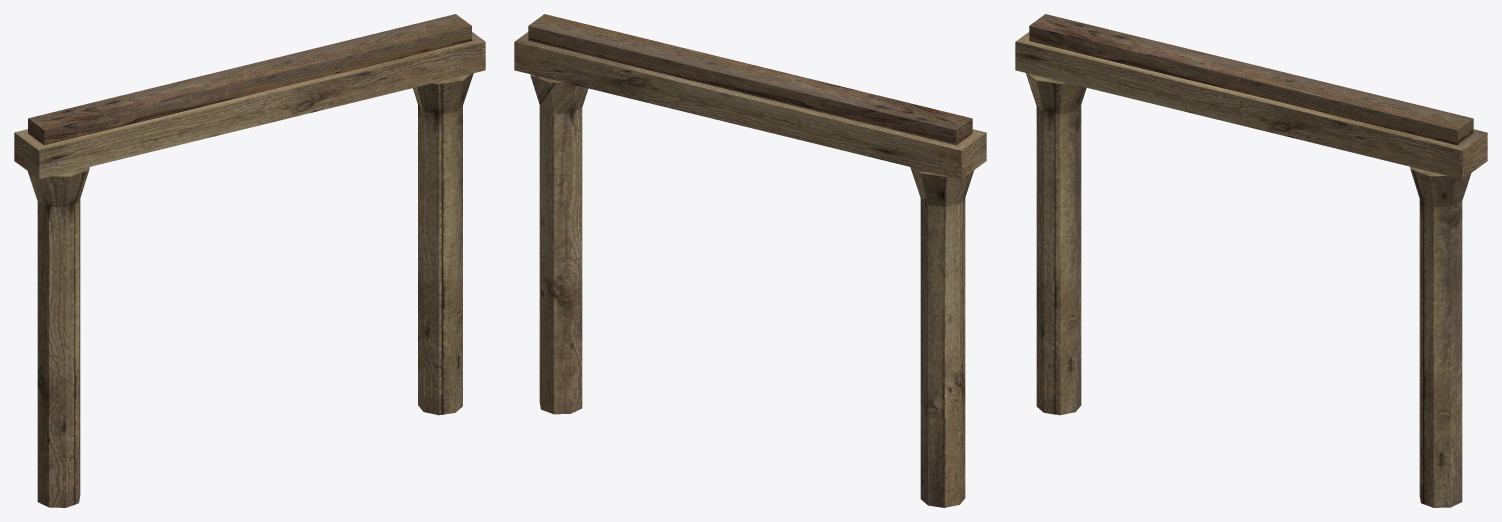
The model's file is celt_civic3_arch.glb.
3 renders of one model, left to right at view 1: azimuth 30°, elevation 25°; view 2: azimuth 150°, elevation 25°; view 3: azimuth 330°, elevation 25°, orthographic.
Parts seen in each view (by area): view 1: default16; view 2: default16; view 3: default16.
Part boxes in pixels (x1=…): default16: x1=14, y1=14, x2=485, y2=507; default16: x1=514, y1=14, x2=986, y2=507; default16: x1=1015, y1=14, x2=1487, y2=507.
Size of the model in its own units: 5.61 by 4.56 by 0.7288.
1 material, 1 textured.
